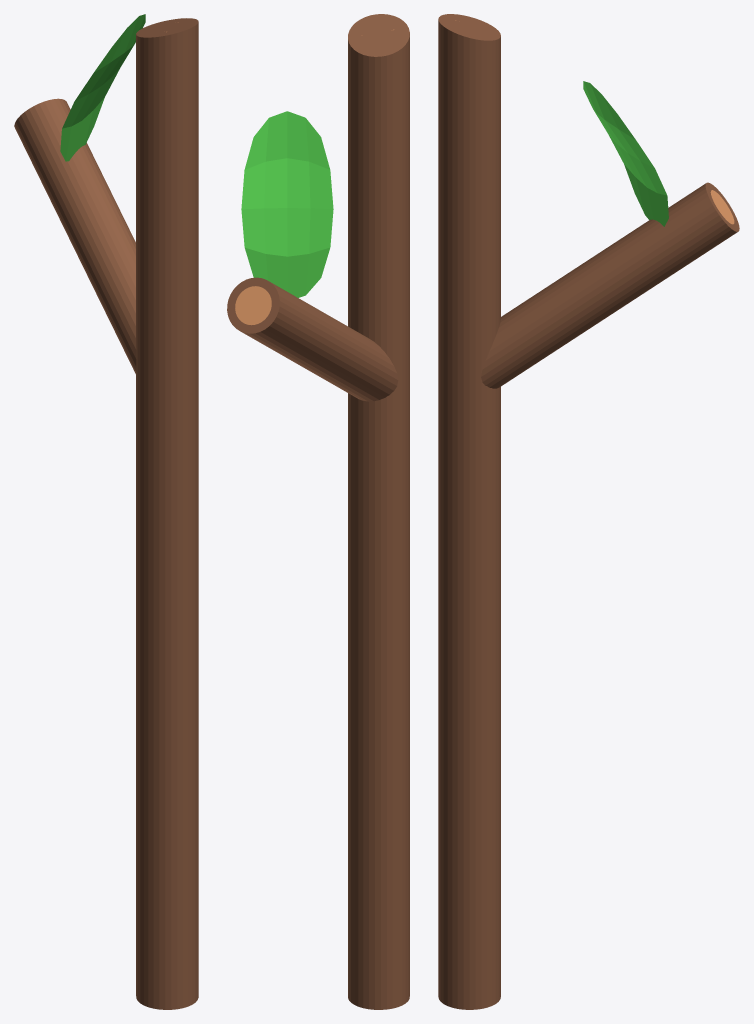
The model's file is Stick_1.fbx.
3 views of the same model, side by side, from view 1: azimuth 30°, elevation 25°; view 2: azimuth 150°, elevation 25°; view 3: azimuth 270°, elevation 25° (orthographic).
Visible parts, largest first — view 1: Stick, Leaf; view 2: Stick, Leaf; view 3: Stick, Leaf.
Boxes of the visible parts, x1,y1,x2,y2 form: Stick: (14, 18, 198, 1009); Leaf: (60, 14, 145, 161); Stick: (227, 14, 409, 1009); Leaf: (241, 111, 333, 297); Stick: (438, 14, 739, 1009); Leaf: (583, 81, 668, 226).
Bounding box in the file's own units: 60.05 × 696 × 194.
